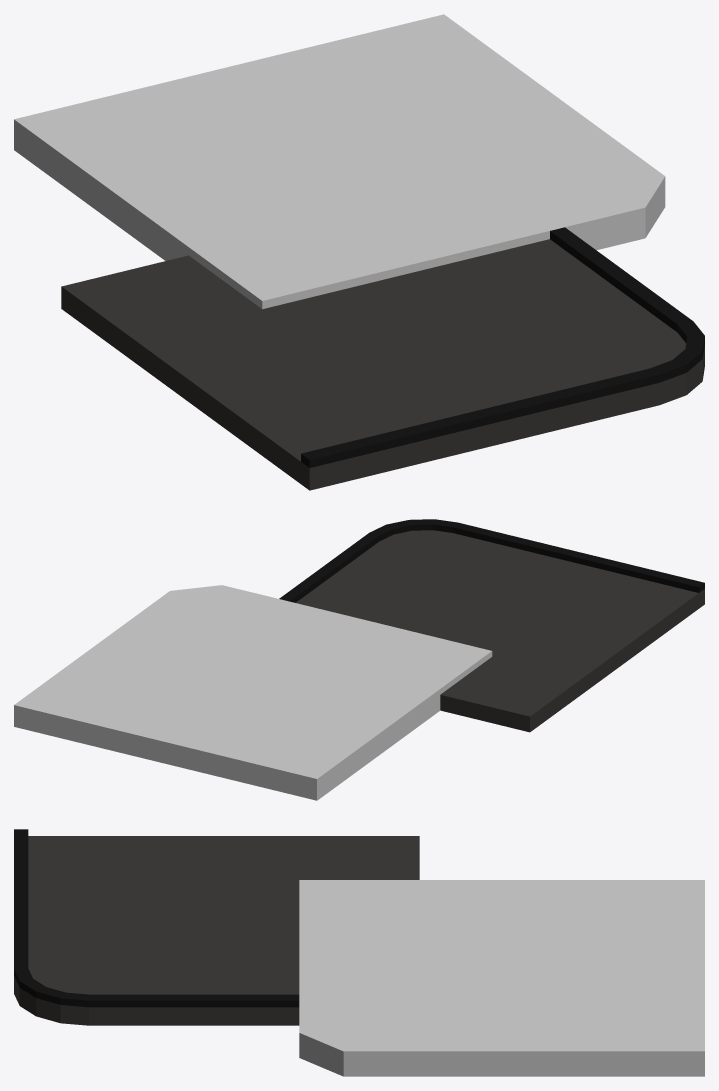
File: SM_Factory_Ground_02.fbx
3 views of the same model, one above another, from view 1: azimuth 30°, elevation 25°; view 2: azimuth 150°, elevation 25°; view 3: azimuth 270°, elevation 25° (orthographic). The views are drawn at different scales.
Parts seen in each view (by area): view 1: SM_Factory_Ground_02_ConvexHulls, SM_Factory_Ground_02; view 2: SM_Factory_Ground_02_ConvexHulls, SM_Factory_Ground_02; view 3: SM_Factory_Ground_02_ConvexHulls, SM_Factory_Ground_02.
Part boxes in pixels (x1,y1,x2,y2): SM_Factory_Ground_02_ConvexHulls: [14, 14, 665, 309]; SM_Factory_Ground_02: [61, 227, 704, 490]; SM_Factory_Ground_02_ConvexHulls: [14, 585, 492, 800]; SM_Factory_Ground_02: [279, 519, 704, 732]; SM_Factory_Ground_02_ConvexHulls: [299, 880, 704, 1076]; SM_Factory_Ground_02: [14, 829, 419, 1025].
Size of the model in its own units: 648 by 852 by 34.31.
Materials: 2 (1 with a texture image).
